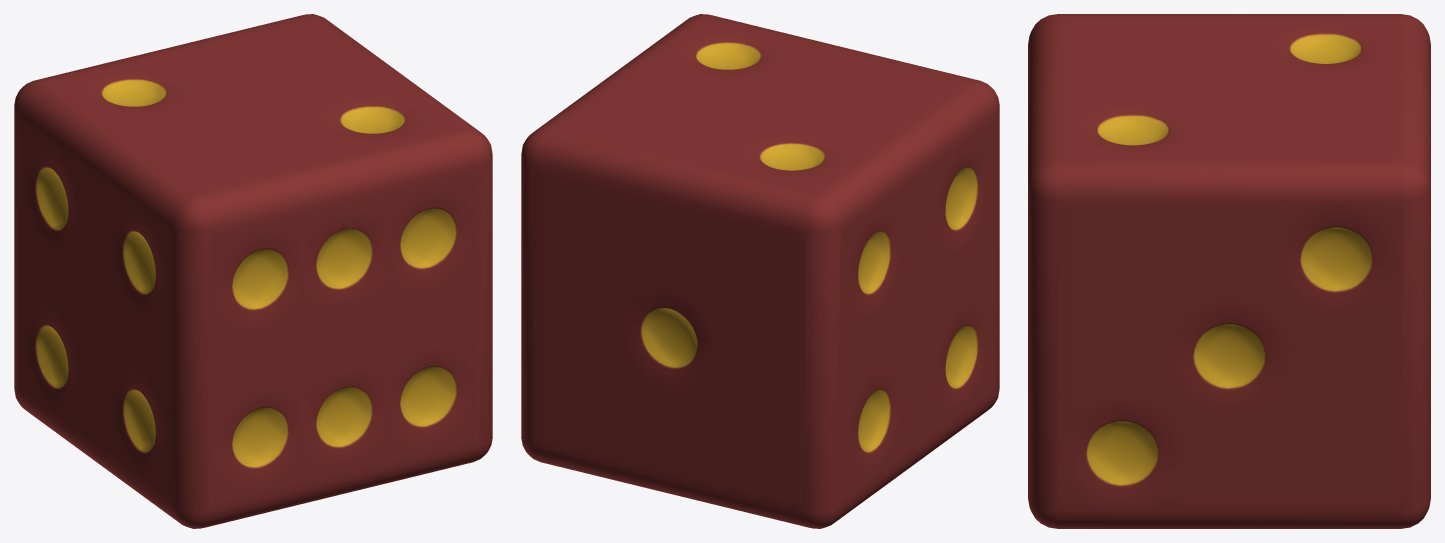
3 views of the same model, side by side, from view 1: azimuth 30°, elevation 25°; view 2: azimuth 150°, elevation 25°; view 3: azimuth 270°, elevation 25° (orthographic). The views are drawn at different scales.
Parts seen in each view (by area): view 1: Dice_D6; view 2: Dice_D6; view 3: Dice_D6.
Part boxes in pixels (x1,y1,x2,y2): Dice_D6: [14, 14, 492, 528]; Dice_D6: [521, 14, 999, 528]; Dice_D6: [1028, 14, 1430, 528].
Size of the model in its own units: 2 by 2 by 2.
1 material, 1 textured.
